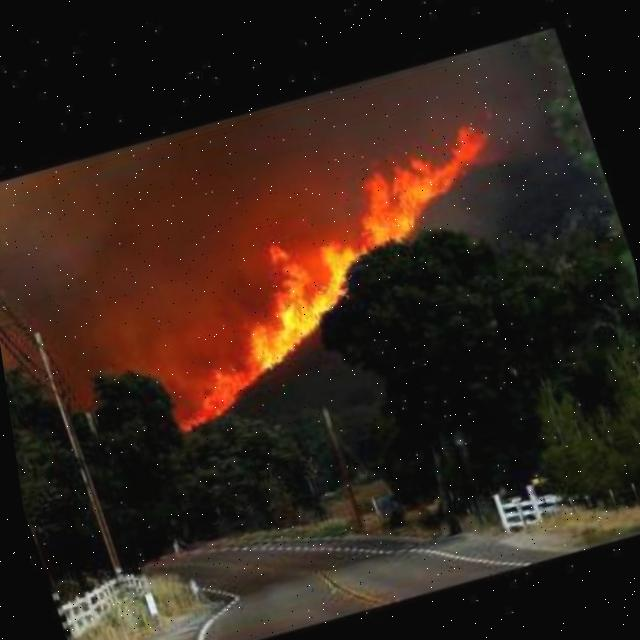fire: (89, 88, 568, 456)
